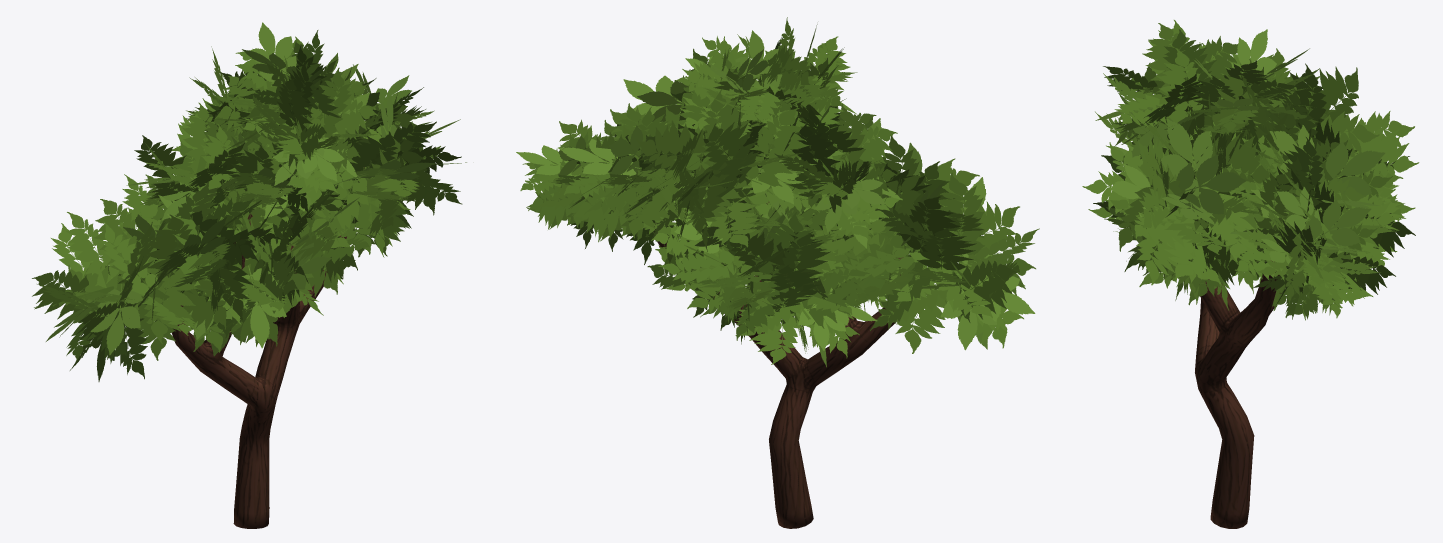
Rendered from SM_Common_Tree_08.glb.
The picture shows the model from 3 angles, left to right: view 1: azimuth 30°, elevation 25°; view 2: azimuth 150°, elevation 25°; view 3: azimuth 270°, elevation 25°; orthographic projection. The views are drawn at different scales.
Parts seen in each view (by area): view 1: SM_Common_Tree_08; view 2: SM_Common_Tree_08; view 3: SM_Common_Tree_08.
Boxes of the visible parts, x1,y1,x2,y2 form: SM_Common_Tree_08: (32, 22, 466, 528); SM_Common_Tree_08: (516, 17, 1039, 528); SM_Common_Tree_08: (1082, 20, 1419, 528).
Bounding box in the file's own units: 7.72 × 7.7 × 4.72.
Materials: 2 (2 with a texture image).
